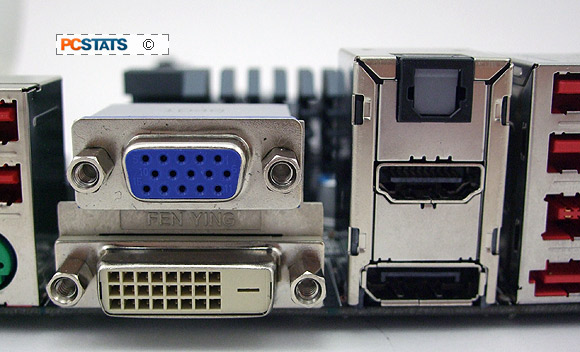DVI: (96, 258, 276, 319)
HDMI: (367, 159, 492, 207)
VGA: (118, 135, 248, 202)
